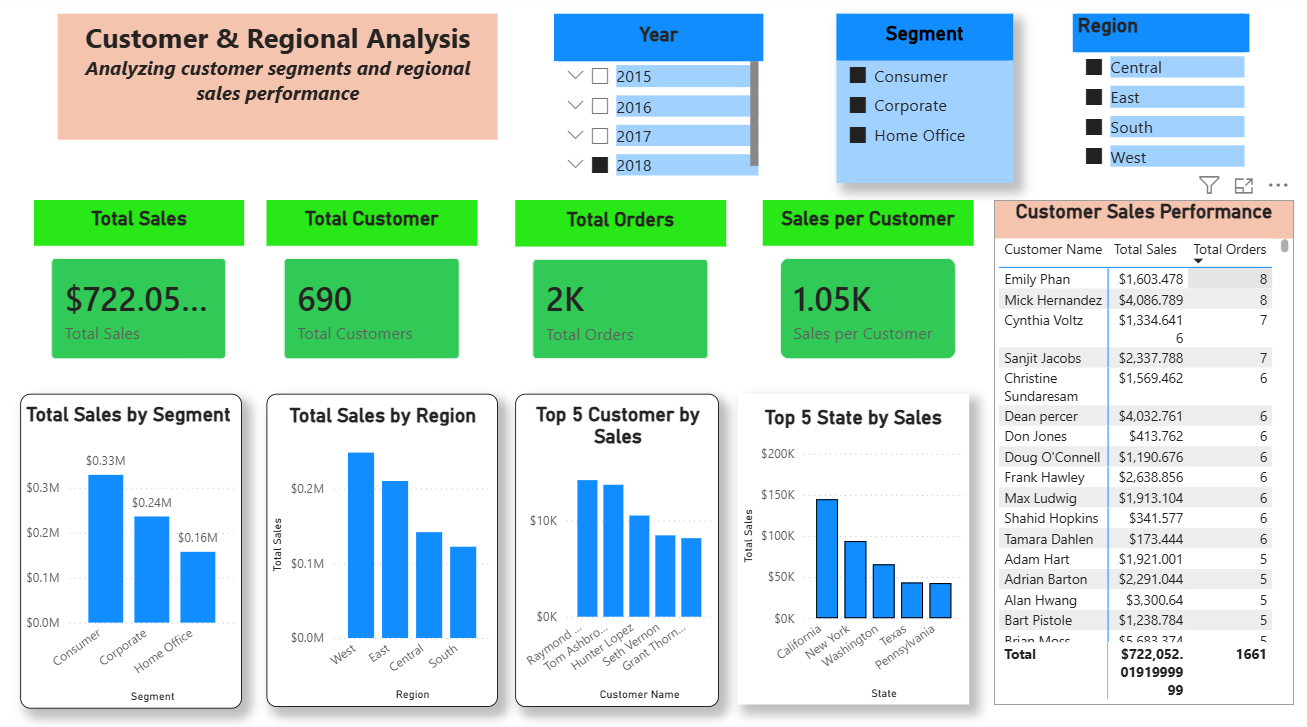

What the dashboard file says about the page in this screenshot:
{"tool":"powerbi","page":{"name":"Page 3 - Customer & Regional Analysis","canvas":[1280,720],"ordinal":2},"visuals":[{"type":"textbox","box":[57,17.8,430.7,122.8],"z":0},{"type":"slicer","title":"Year","fields":{"Values":["train.Order Date.Variation.Date Hierarchy.Year","train.Order Date.Variation.Date Hierarchy.Quarter","train.Order Date.Variation.Date Hierarchy.Month","train.Order Date.Variation.Date Hierarchy.Day"]},"box":[542.8,17.8,204.7,165.5],"z":1000},{"type":"slicer","title":"Region","fields":{"Values":["train.Region"]},"box":[1050.1,17.8,172.6,165.5],"z":2000},{"type":"slicer","title":"Segment","fields":{"Values":["train.Segment"]},"box":[818.7,17.8,172.6,165.5],"z":3000},{"type":"cardVisual","title":"Total Sales","fields":{"Data":["train.Total Sales"]},"box":[33.8,201.1,205.6,173.1],"z":4000},{"type":"cardVisual","title":"Total Customer","fields":{"Data":["train.Total Customers"]},"box":[261.6,201.1,206,173],"z":5000},{"type":"cardVisual","title":"Total Orders","fields":{"Data":["train.Total Orders"]},"box":[505.5,201.1,206,173],"z":6000},{"type":"cardVisual","title":"Sales per Customer","fields":{"Data":["train.Sales per Customer"]},"box":[747.5,201.1,206,173],"z":7000},{"type":"columnChart","fields":{"Category":["train.Segment"],"Y":["train.Total Sales"]},"box":[21.4,389.8,217.1,307.9],"z":8000},{"type":"columnChart","fields":{"Category":["train.Region"],"Y":["train.Total Sales"]},"box":[261.6,389.8,226,306.1],"z":9000},{"type":"columnChart","title":"Top 5 Customer by Sales","fields":{"Category":["train.Customer Name"],"Y":["train.Total Sales"]},"box":[505.5,389.8,199.3,306.1],"z":10000},{"type":"columnChart","title":"Top 5 State by Sales","fields":{"Category":["train.State"],"Y":["train.Total Sales"]},"box":[722.6,389.8,226,304.3],"z":11000},{"type":"pivotTable","title":"Customer Sales Performance","fields":{"Rows":["train.Customer Name"],"Values":["train.Total Sales","train.Total Orders"]},"box":[973.5,201.1,293.7,493],"z":12000}]}

Visuals, with their boxes in screenshot pixels (x1, y1, x2, y2), scaled from the page's 1280x720 canvas onto the 1307x727 screenshot:
textbox: [left=58, top=18, right=498, bottom=142]
"Year" slicer: [left=554, top=18, right=763, bottom=185]
"Region" slicer: [left=1072, top=18, right=1248, bottom=185]
"Segment" slicer: [left=836, top=18, right=1012, bottom=185]
"Total Sales" cardVisual: [left=35, top=203, right=244, bottom=378]
"Total Customer" cardVisual: [left=267, top=203, right=477, bottom=378]
"Total Orders" cardVisual: [left=516, top=203, right=727, bottom=378]
"Sales per Customer" cardVisual: [left=763, top=203, right=974, bottom=378]
columnChart - train.Segment x train.Total Sales: [left=22, top=394, right=244, bottom=704]
columnChart - train.Region x train.Total Sales: [left=267, top=394, right=498, bottom=703]
"Top 5 Customer by Sales" columnChart: [left=516, top=394, right=720, bottom=703]
"Top 5 State by Sales" columnChart: [left=738, top=394, right=969, bottom=701]
"Customer Sales Performance" pivotTable: [left=994, top=203, right=1294, bottom=701]
